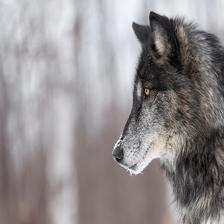WOLF: (114, 12, 224, 224)
